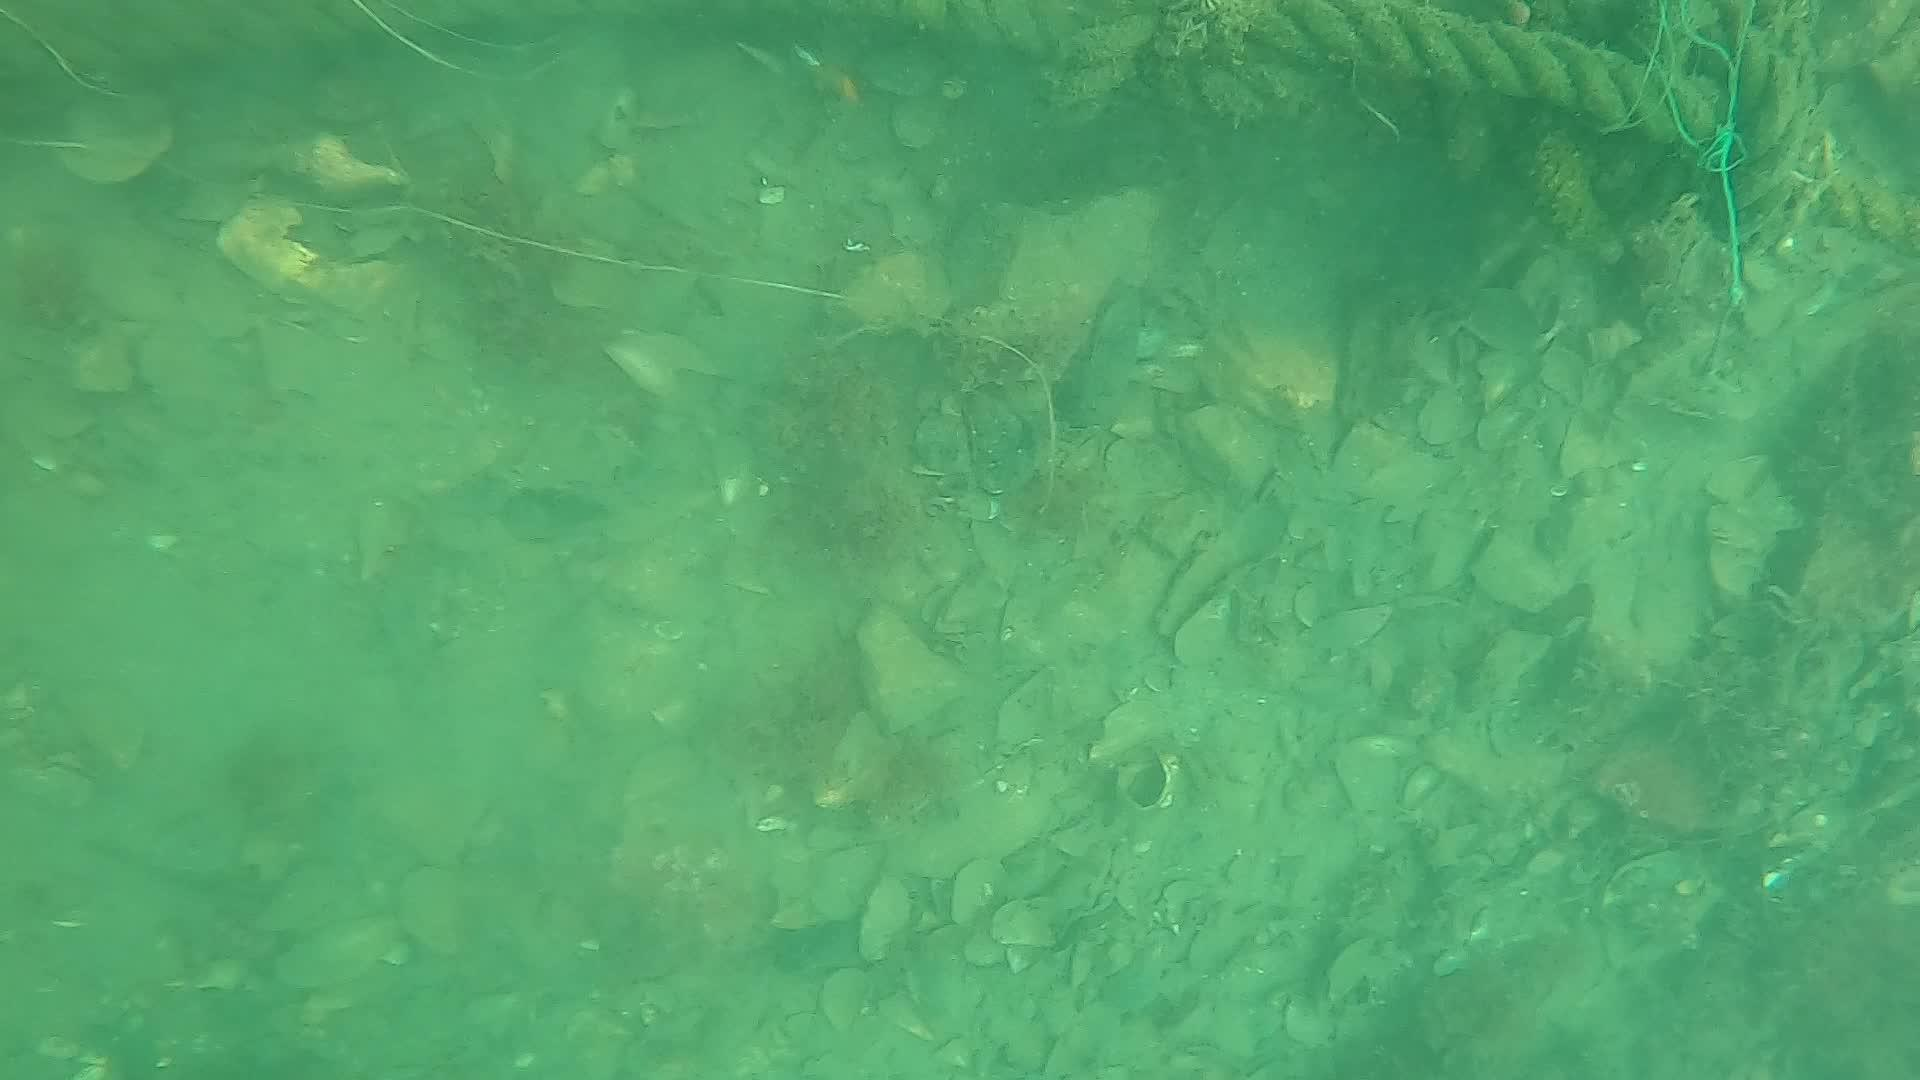bundle of ropes: (806, 0, 1920, 255)
